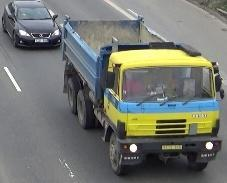car: (3, 1, 62, 50)
truck: (62, 19, 224, 175)
